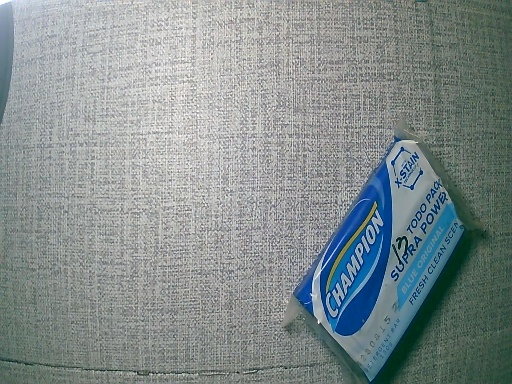plastic: (275, 118, 488, 384)
